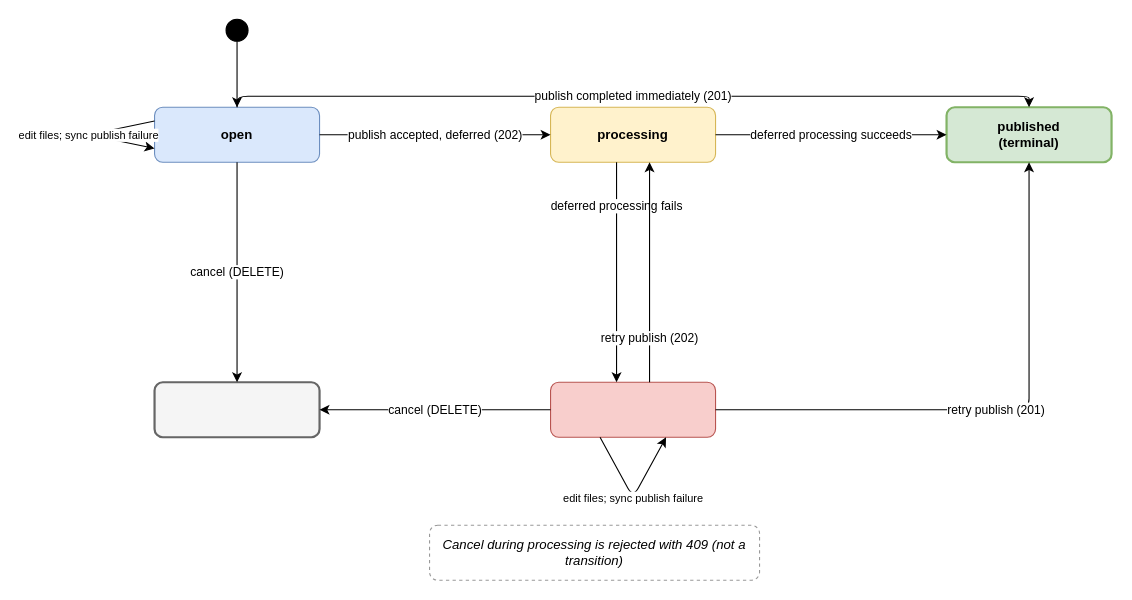
This 1132x600 diagram has some shape labels left out. The box of each missing label's shape, as (x1, y1, x2, y2) in pixels:
canceled (terminal): (153, 381, 320, 438)
error: (549, 381, 716, 437)
